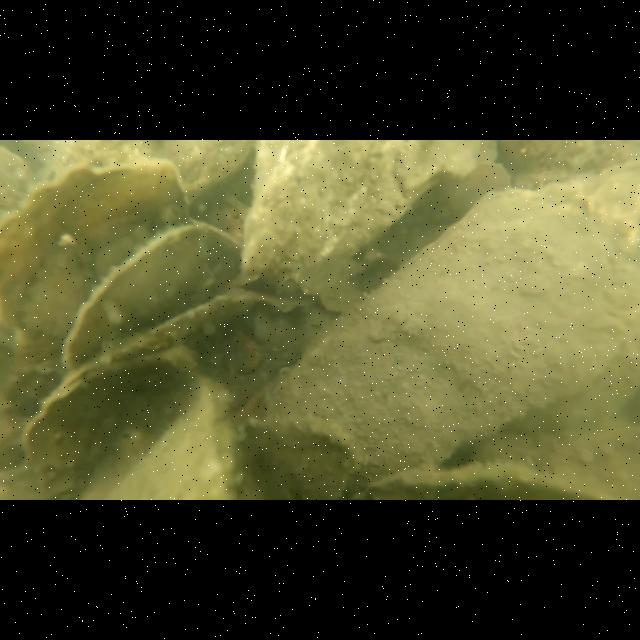Oyster-Closed: (264, 165, 640, 499), (241, 140, 484, 294), (1, 157, 190, 340)
Oyster-Open: (29, 350, 241, 500), (63, 227, 259, 365)
